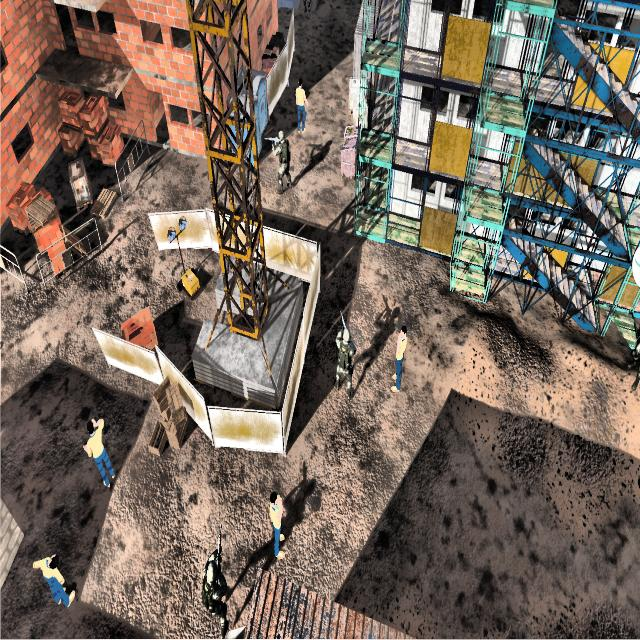bad: (198, 539, 235, 640), (329, 319, 364, 403), (265, 122, 299, 198)
good: (250, 475, 294, 568), (78, 409, 120, 501), (28, 536, 76, 616), (385, 305, 413, 401), (291, 74, 311, 138)
